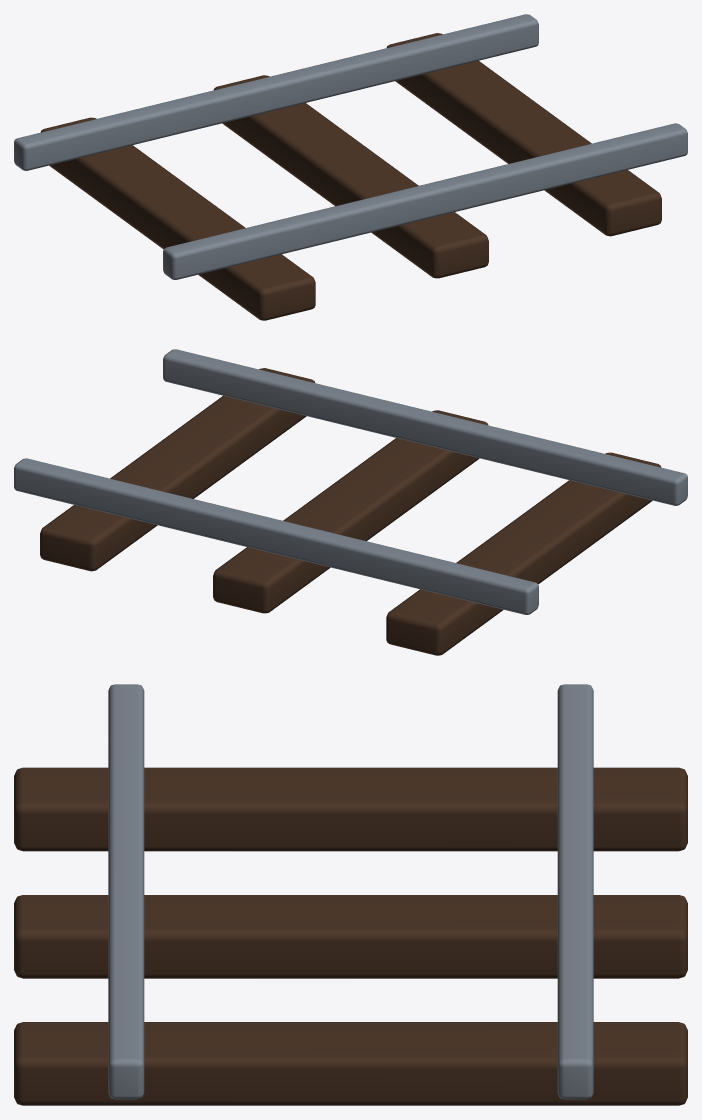
The model's file is jungle_track.glb.
3 views of the same model, one above another, from view 1: azimuth 30°, elevation 25°; view 2: azimuth 150°, elevation 25°; view 3: azimuth 270°, elevation 25° (orthographic). The views are drawn at different scales.
Parts seen in each view (by area): view 1: Track; view 2: Track; view 3: Track.
Boxes of the visible parts, x1,y1,x2,y2 form: Track: [14, 14, 687, 320]; Track: [14, 349, 687, 655]; Track: [14, 684, 687, 1105].
Bounding box in the file's own units: 2 × 0.22 × 1.5.
